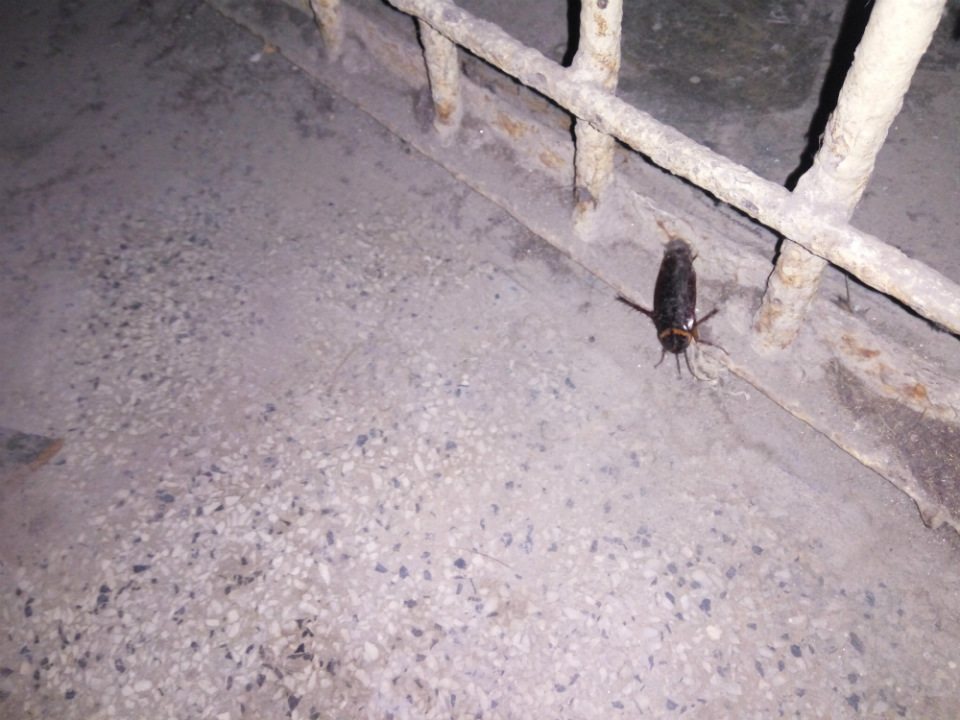cockroach: (577, 200, 770, 410)
